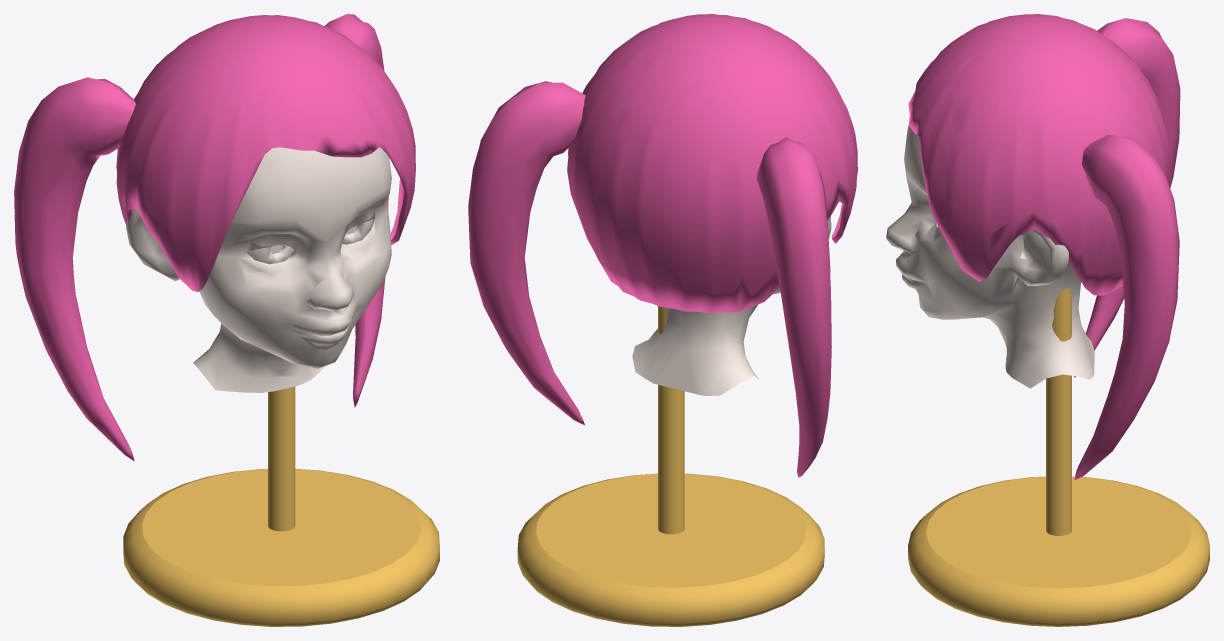
File: rain.hair.rose-waves.glb
3 views of the same model, side by side, from view 1: azimuth 30°, elevation 25°; view 2: azimuth 150°, elevation 25°; view 3: azimuth 270°, elevation 25° (orthographic). The views are drawn at different scales.
Parts seen in each view (by area): view 1: Hairstyles.rose-waves.Crown, stand_base, GEO-rain-head, Hairstyles.rose-waves.Tail -1Anchor.Tail -1, stand_stem, Hairstyles.rose-waves.Tail 1Anchor.Tail 1, GEO-rain-eyes; view 2: Hairstyles.rose-waves.Crown, stand_base, Hairstyles.rose-waves.Tail 1Anchor.Tail 1, Hairstyles.rose-waves.Tail -1Anchor.Tail -1, GEO-rain-head, stand_stem; view 3: Hairstyles.rose-waves.Crown, stand_base, GEO-rain-head, Hairstyles.rose-waves.Tail 1Anchor.Tail 1, Hairstyles.rose-waves.Tail -1Anchor.Tail -1, stand_stem.
Boxes of the visible parts, x1,y1,x2,y2 form: Hairstyles.rose-waves.Crown: (116, 15, 415, 291); stand_base: (123, 468, 439, 626); GEO-rain-head: (126, 147, 391, 392); Hairstyles.rose-waves.Tail -1Anchor.Tail -1: (14, 77, 135, 461); stand_stem: (268, 386, 295, 531); Hairstyles.rose-waves.Tail 1Anchor.Tail 1: (324, 14, 388, 407); GEO-rain-eyes: (247, 219, 373, 264); Hairstyles.rose-waves.Crown: (567, 14, 857, 313); stand_base: (517, 473, 824, 626); Hairstyles.rose-waves.Tail 1Anchor.Tail 1: (468, 81, 585, 425); Hairstyles.rose-waves.Tail -1Anchor.Tail -1: (756, 137, 831, 477); GEO-rain-head: (632, 216, 831, 395); stand_stem: (658, 306, 684, 534); Hairstyles.rose-waves.Crown: (908, 14, 1169, 295); stand_base: (908, 476, 1209, 626); GEO-rain-head: (886, 125, 1094, 388); Hairstyles.rose-waves.Tail 1Anchor.Tail 1: (1074, 134, 1179, 479); Hairstyles.rose-waves.Tail -1Anchor.Tail -1: (1074, 18, 1180, 377); stand_stem: (1046, 288, 1071, 535).
Bounding box in the file's own units: 0.5187 × 0.75 × 0.4156.
